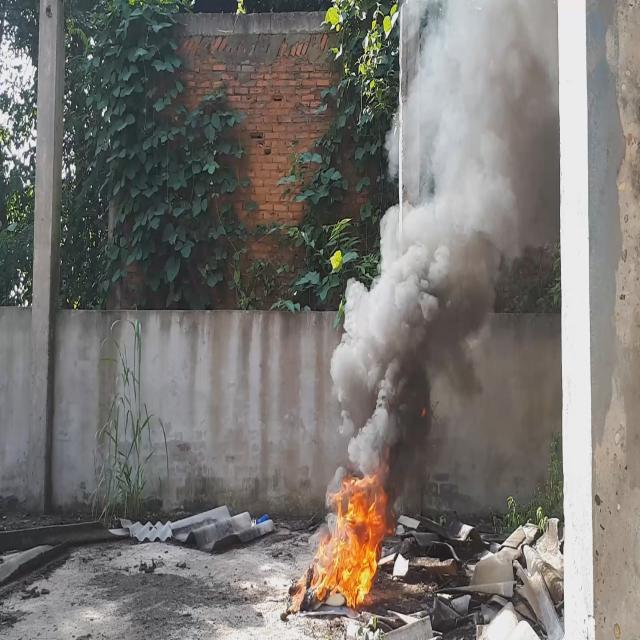Fire: (314, 461, 393, 614)
Smoke: (331, 0, 559, 491)
